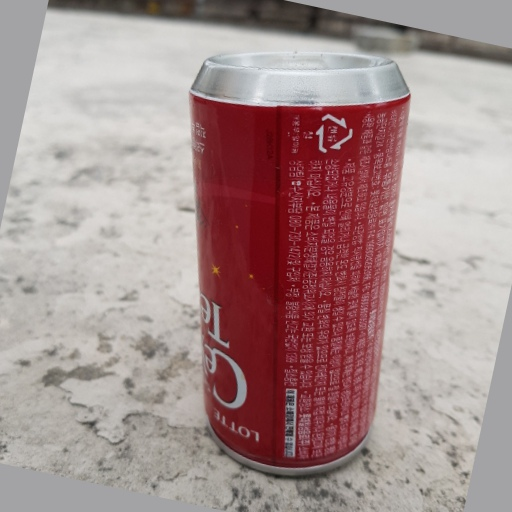Metal_0: (183, 50, 412, 477)
